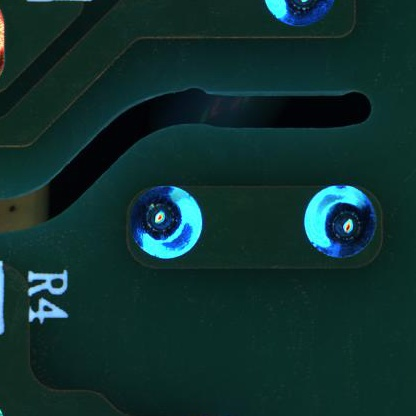spot: (299, 184, 382, 263), (130, 183, 203, 260)
